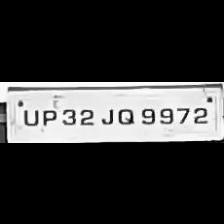2: (76, 105, 96, 127), (190, 104, 210, 124)
3: (58, 104, 78, 126)
7: (174, 102, 190, 125)
9: (138, 104, 158, 125), (156, 105, 176, 125)
J: (98, 102, 114, 125)
P: (38, 105, 57, 128)
Q: (113, 104, 135, 124)
U: (19, 101, 40, 126)
